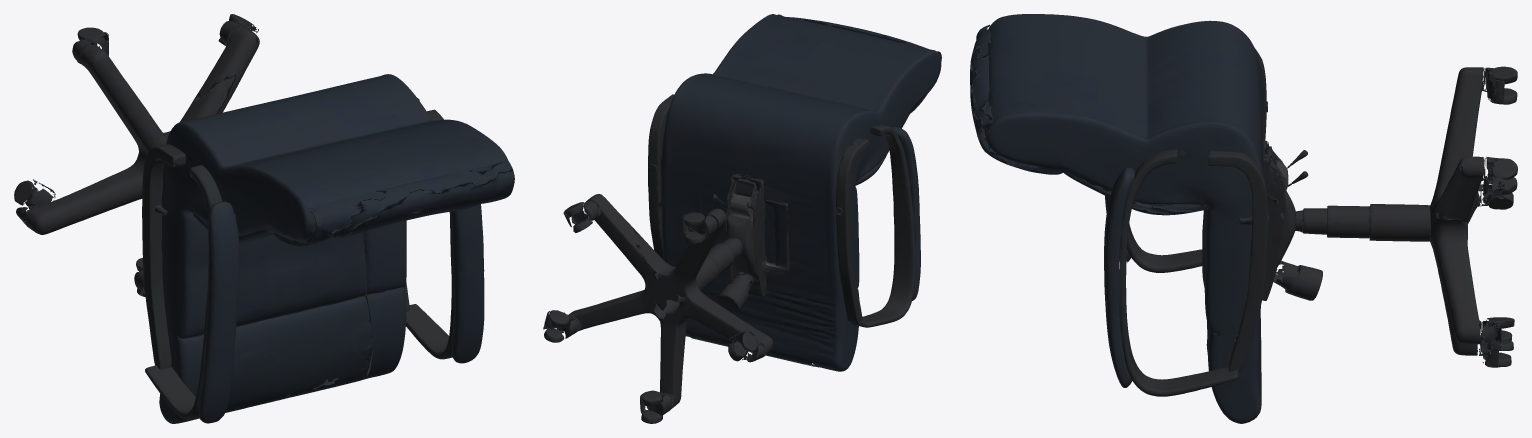
The model's file is trellis2.glb.
3 renders of one model, left to right at view 1: azimuth 30°, elevation 25°; view 2: azimuth 150°, elevation 25°; view 3: azimuth 270°, elevation 25°, orthographic. The views are drawn at different scales.
Visible parts, largest first — view 1: world; view 2: world; view 3: world.
Boxes of the visible parts, <box> form: world: <box>14,14,514,423</box>; world: <box>543,14,941,423</box>; world: <box>970,14,1517,423</box>.
Size of the model in its own units: 0.5823 by 0.6268 by 0.9992.
1 material, 1 textured.
